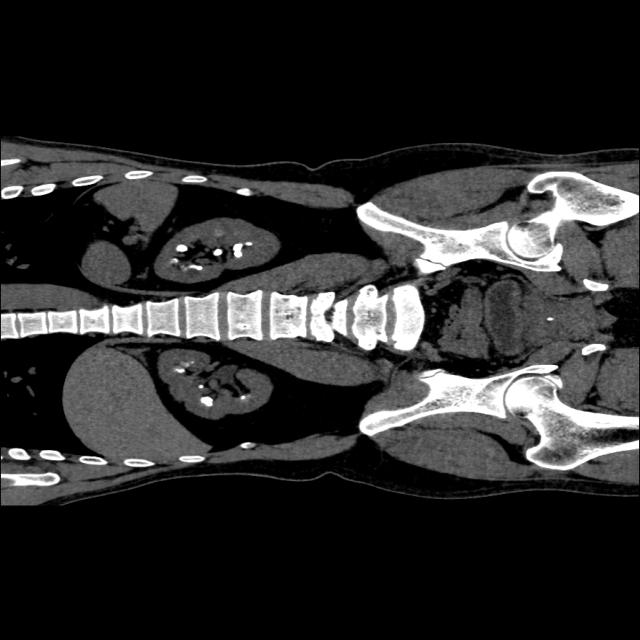kidneystone: (233, 242, 242, 256), (201, 395, 212, 406), (176, 244, 188, 251), (188, 264, 201, 269), (213, 248, 222, 255), (170, 258, 178, 265), (182, 361, 194, 364), (198, 384, 205, 389), (238, 395, 245, 399), (179, 369, 184, 372)
